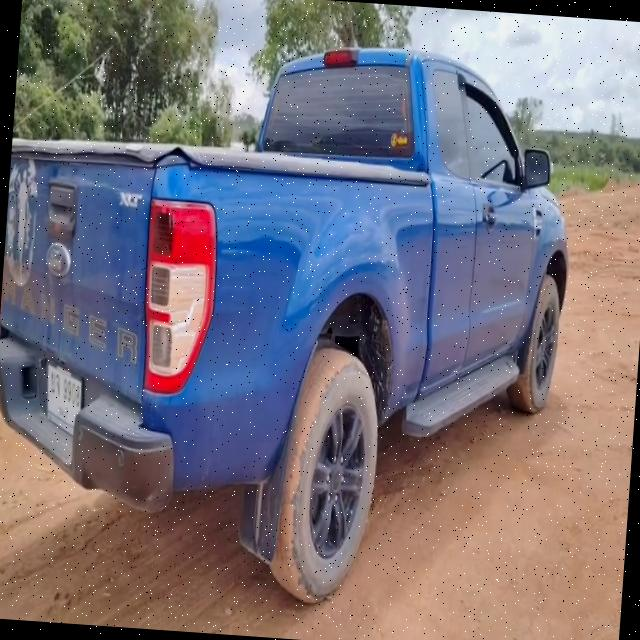Digit: (59, 372, 81, 406)
Licenseplate: (45, 359, 85, 444)
Provincename: (56, 404, 72, 424)
Thaichar: (47, 366, 61, 396)
